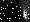person: (24, 6, 29, 21)
